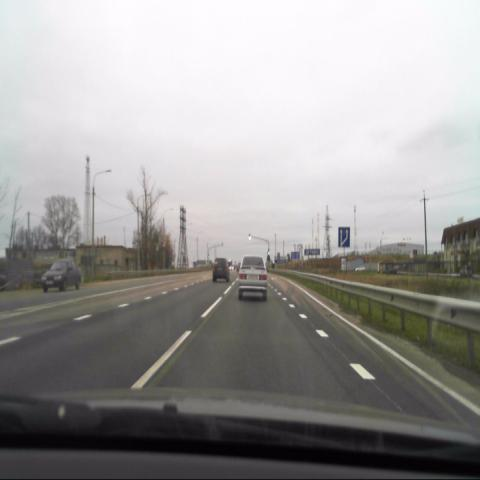5_15_3: (337, 227, 350, 246)
